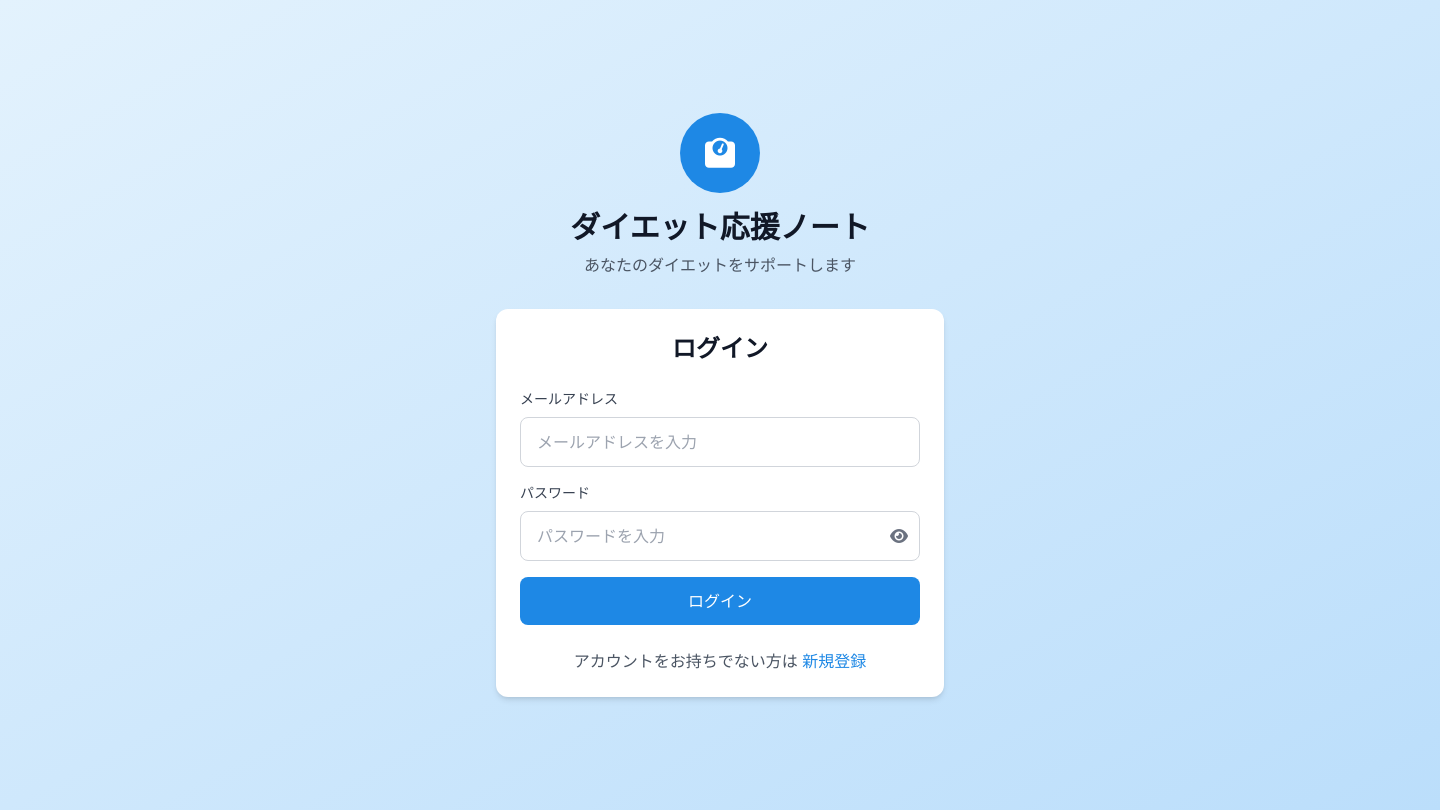
Test: LoginView › ログインが失敗した時にエラーメッセージが表示される
The width and height of the screenshot is (1440, 810).
Type "test@example.com" into the field labelled "メールアドレス".
click(720, 442); type("test@example.com")  # box top-left (520, 417), bottom-right (920, 467)
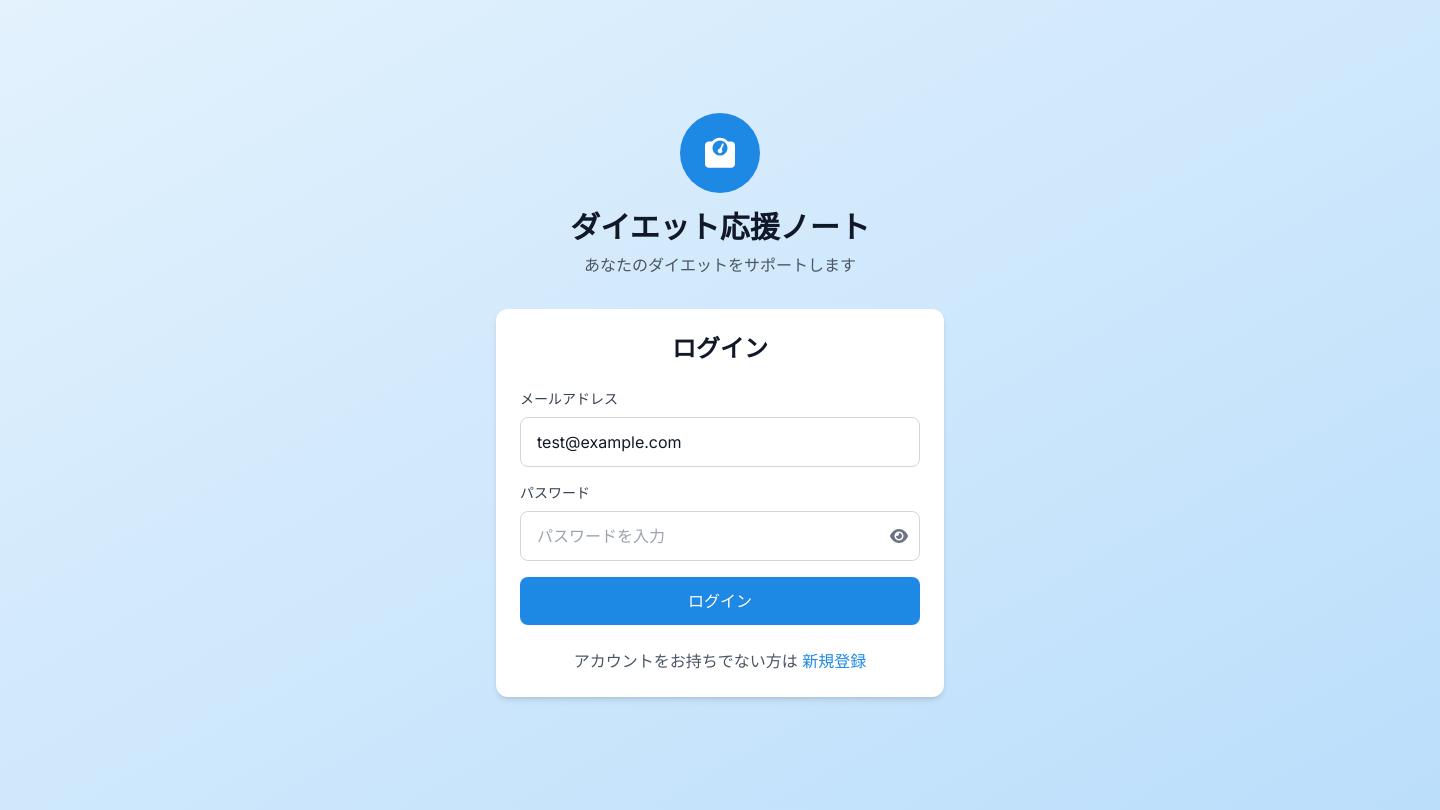
Type "wrongpassword" into the password field labelled "パスワード".
click(720, 536); type("wrongpassword")  # box top-left (520, 511), bottom-right (920, 561)
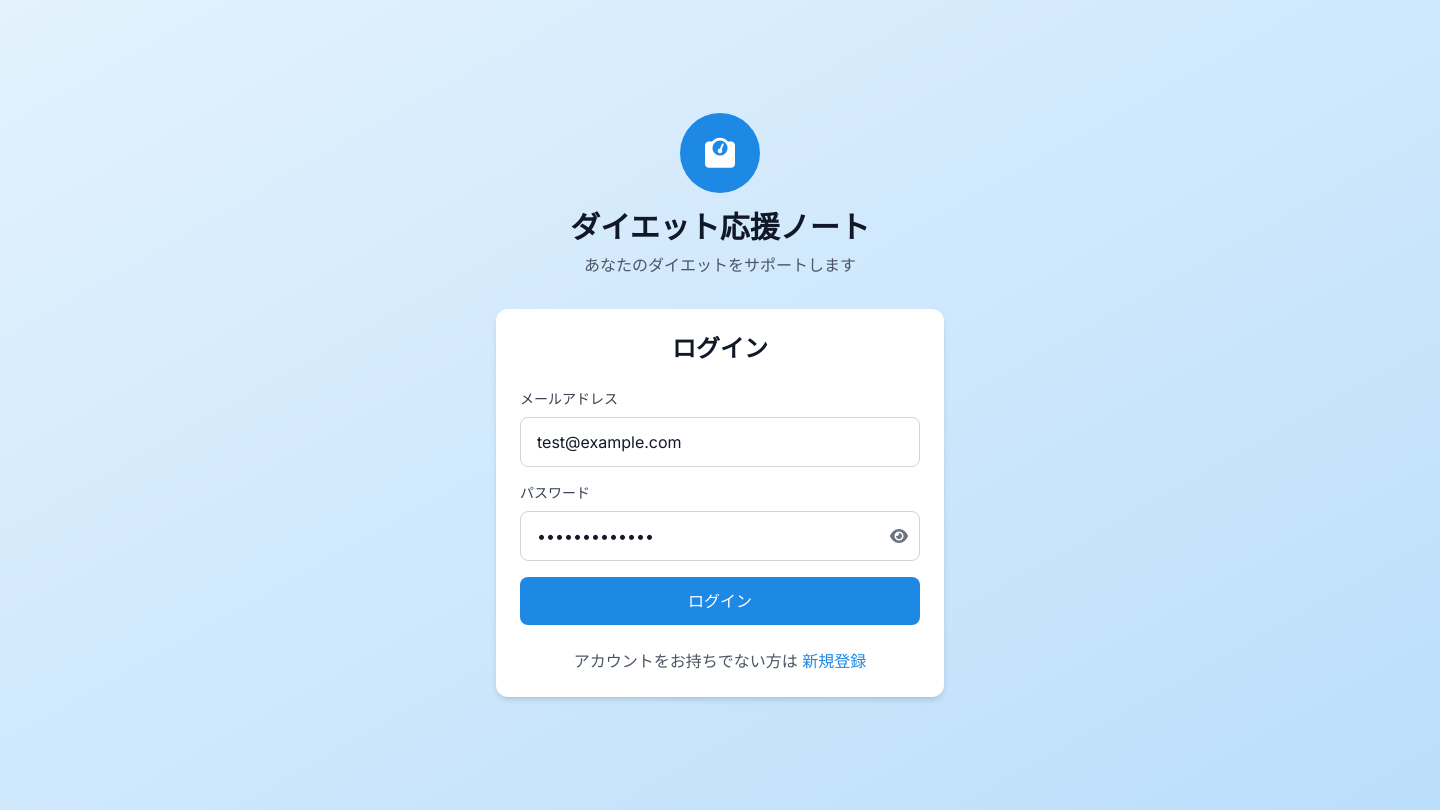
Submit the form, box top-left (520, 389), bottom-right (920, 625)
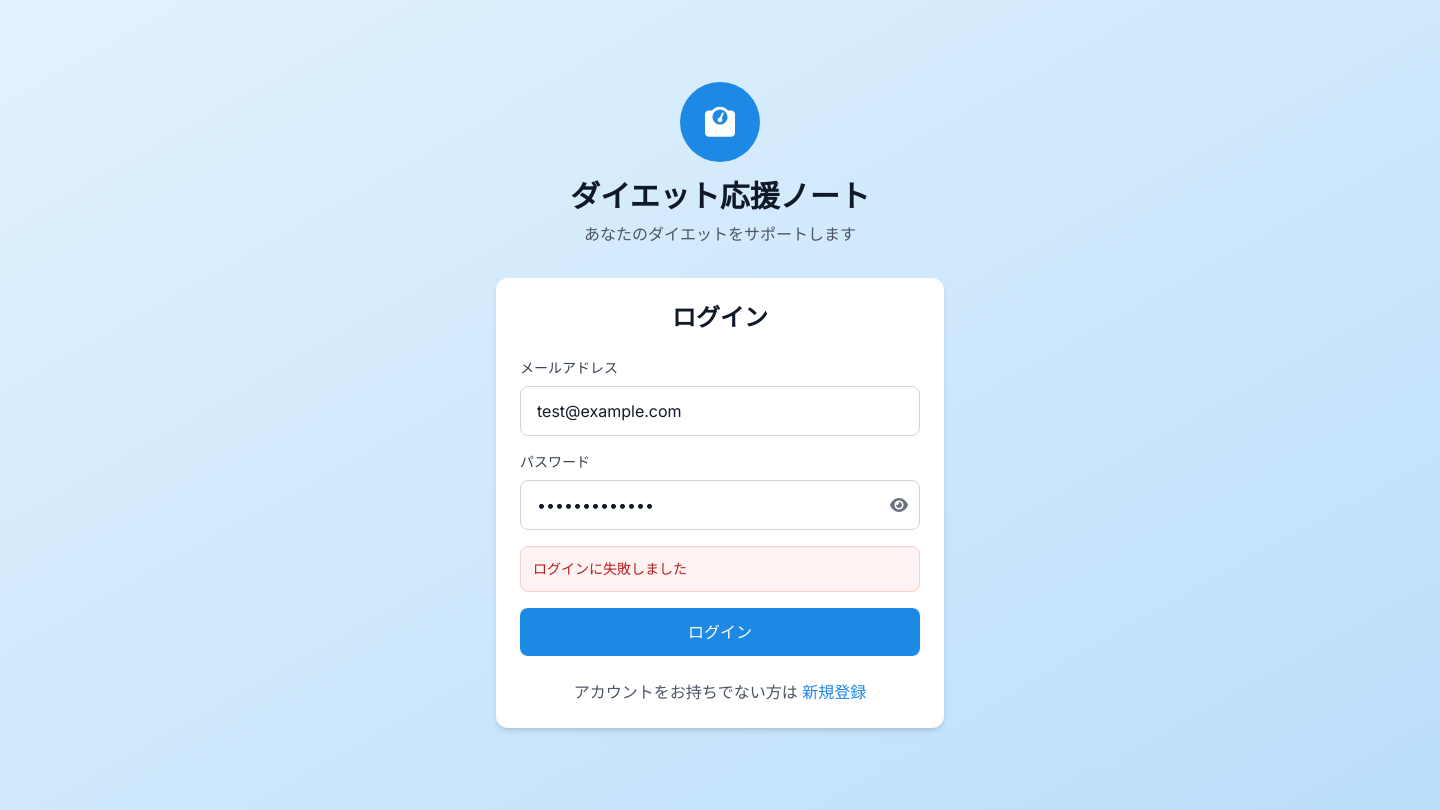
Check: the text "ログインに失敗しました" is shown, box top-left (533, 560), bottom-right (687, 577)
